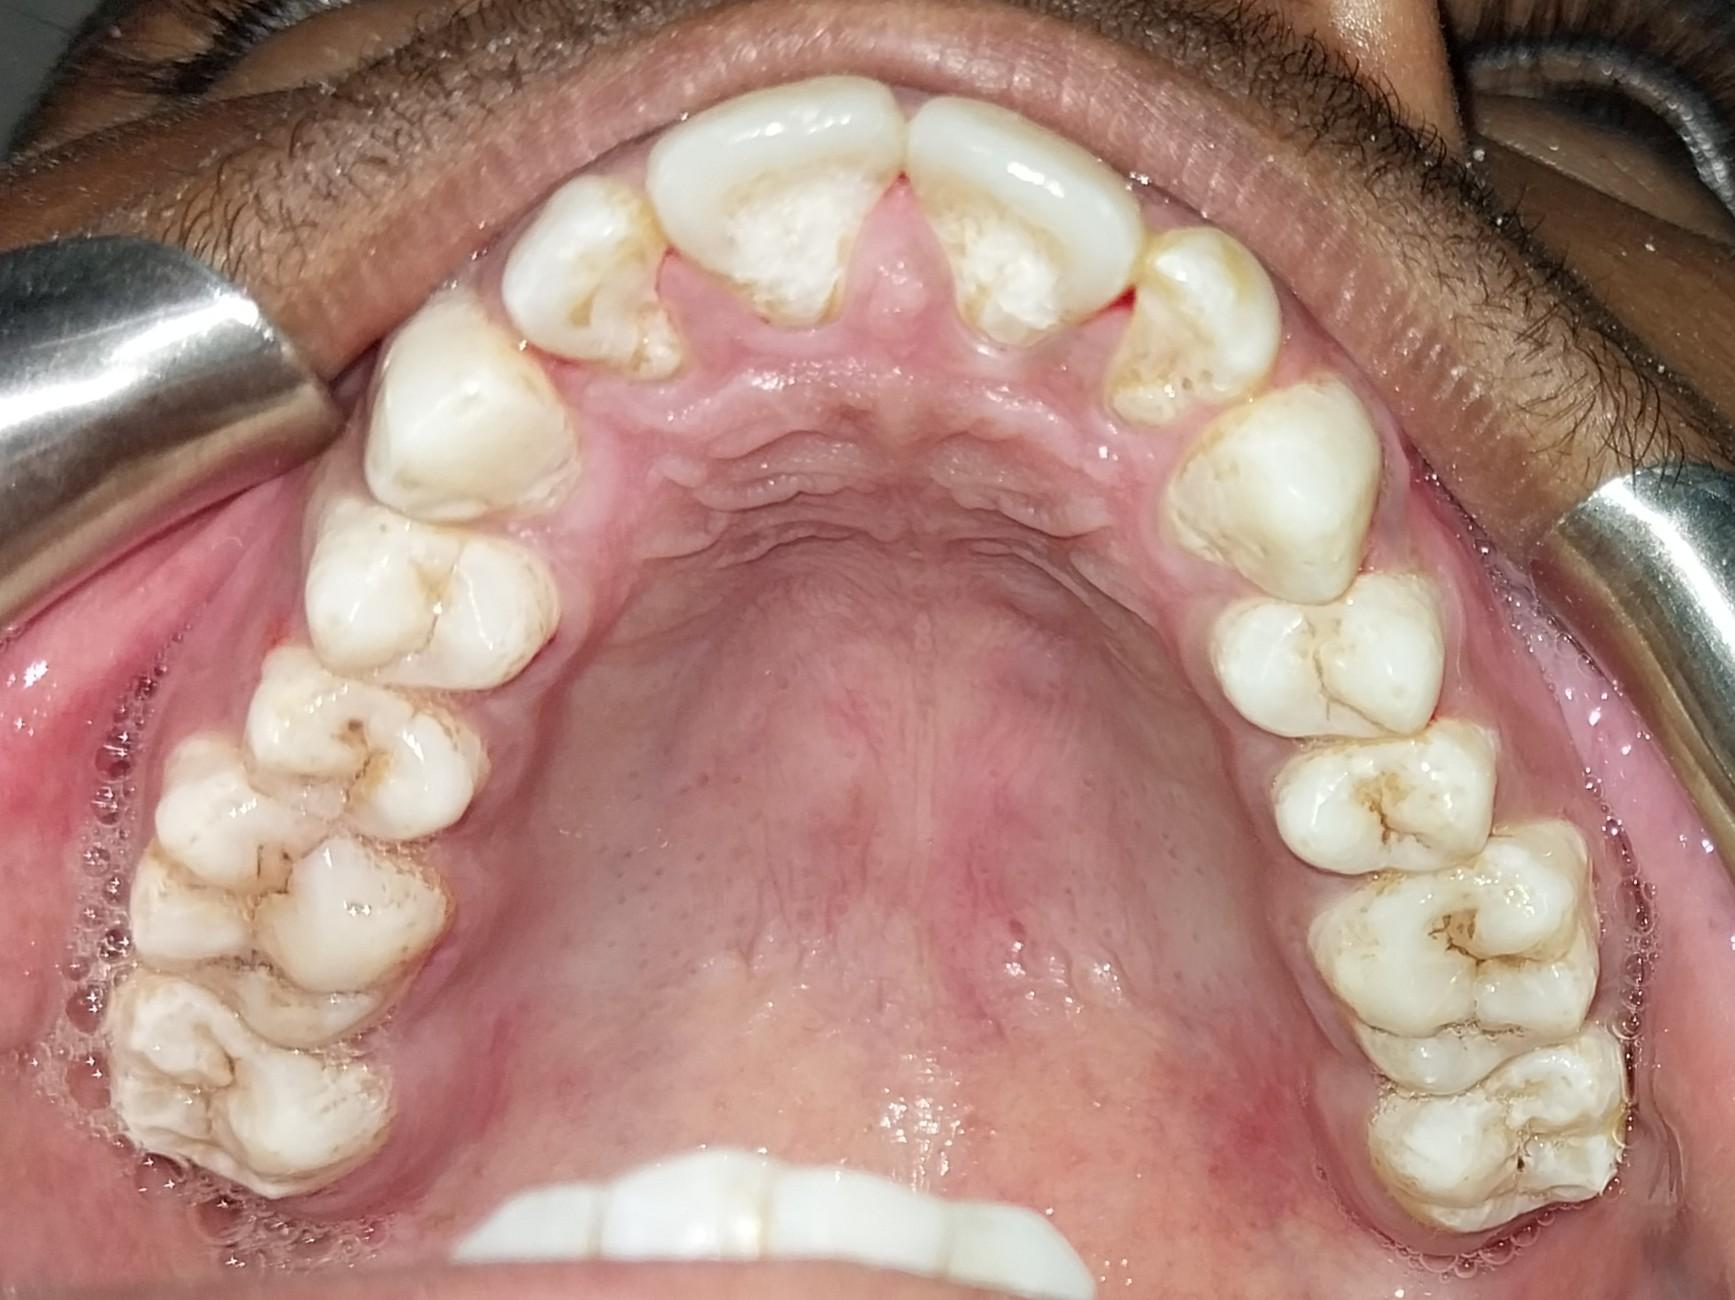D: (156, 770, 431, 1045), (1314, 852, 1620, 1087), (105, 981, 389, 1192), (243, 661, 469, 847), (1276, 743, 1496, 878)
